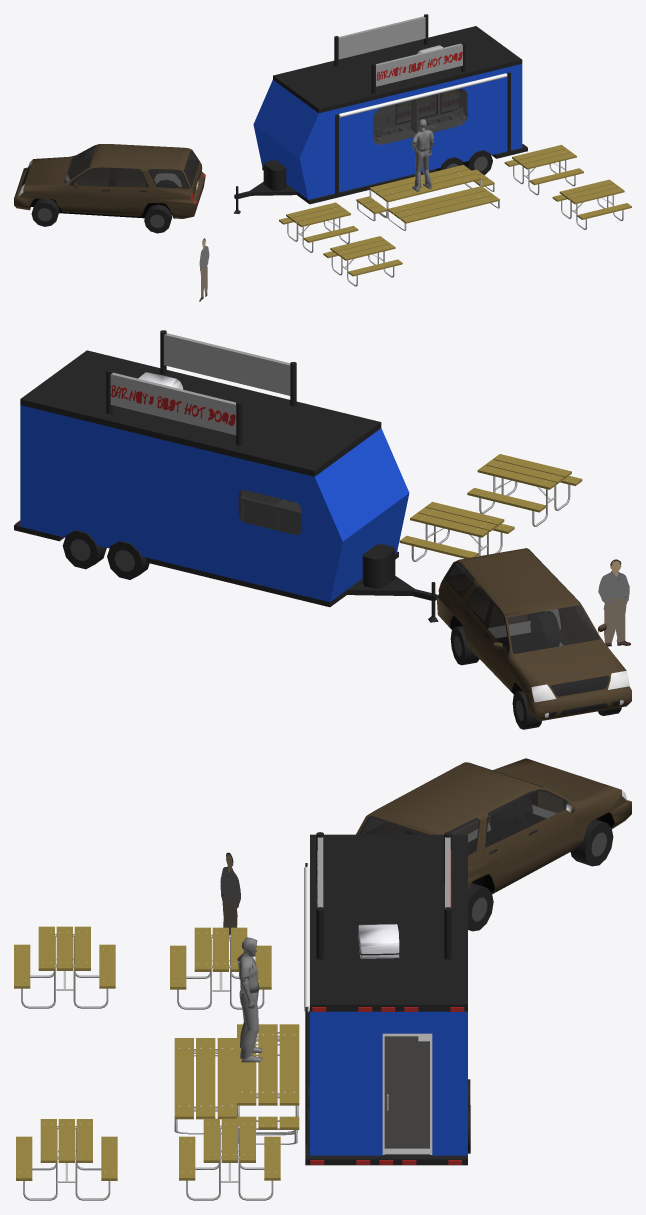
File: snakbar.obj
3 renders of one model, top to bottom at view 1: azimuth 30°, elevation 25°; view 2: azimuth 150°, elevation 25°; view 3: azimuth 270°, elevation 25°, orthographic. The views are drawn at different scales.
Parts seen in each view (by area): view 1: Mesh555 Group1 Snack___Fast_Food_Cart__with_full_interior_1 Mode, Mesh645 SUV_Half1 Auto_SUV_Mid_Size_Brown1 Snack___Fast_Food_Car, Mesh37 Group9 Group1 Snack___Fast_Food_Cart__with_full_interior_, Mesh653 SUV_Half2 Auto_SUV_Mid_Size_Brown1 Snack___Fast_Food_Car, Mesh176 Group32 Group1 Snack___Fast_Food_Cart__with_full_interio, Mesh106 Group20 Group19 Group1 Snack___Fast_Food_Cart__with_full, Mesh69 Group15 Group14 Group1 Snack___Fast_Food_Cart__with_full_, Mesh36 Group7 Group1 Snack___Fast_Food_Cart__with_full_interior_, Mesh814 G_3D_Man_Standing1 Snack___Fast_Food_Cart__with_full_int, Mesh111 Group21 Group1 Snack___Fast_Food_Cart__with_full_interio, Mesh234 Group45 rv_2_1 Group1 Snack___Fast_Food_Cart__with_full_, Mesh570 plank1 Group58 Group57 Snack___Fast_Food_Cart__with_full (+11 smaller); view 2: Mesh555 Group1 Snack___Fast_Food_Cart__with_full_interior_1 Mode, Mesh37 Group9 Group1 Snack___Fast_Food_Cart__with_full_interior_, Mesh653 SUV_Half2 Auto_SUV_Mid_Size_Brown1 Snack___Fast_Food_Car, Mesh645 SUV_Half1 Auto_SUV_Mid_Size_Brown1 Snack___Fast_Food_Car, Mesh69 Group15 Group14 Group1 Snack___Fast_Food_Cart__with_full_, Mesh106 Group20 Group19 Group1 Snack___Fast_Food_Cart__with_full, Mesh36 Group7 Group1 Snack___Fast_Food_Cart__with_full_interior_, Mesh86 Group18 Group1 Snack___Fast_Food_Cart__with_full_interior, Mesh1 Derrick1 Model, Mesh261 Steam_Table_and_Prep_Station1 Group1 Snack___Fast_Food_C, Mesh234 Group45 rv_2_1 Group1 Snack___Fast_Food_Cart__with_full_, Mesh235 Component_3_1 rv_2_1 Group1 Snack___Fast_Food_Cart__with (+13 smaller); view 3: Mesh37 Group9 Group1 Snack___Fast_Food_Cart__with_full_interior_, Mesh555 Group1 Snack___Fast_Food_Cart__with_full_interior_1 Mode, Mesh653 SUV_Half2 Auto_SUV_Mid_Size_Brown1 Snack___Fast_Food_Car, Mesh491 Group50 Door_Glass_3_2x7_0_1 Group1 Snack___Fast_Food_Ca, Mesh645 SUV_Half1 Auto_SUV_Mid_Size_Brown1 Snack___Fast_Food_Car, Mesh814 G_3D_Man_Standing1 Snack___Fast_Food_Cart__with_full_int, Mesh234 Group45 rv_2_1 Group1 Snack___Fast_Food_Cart__with_full_, Mesh591 plank6 Group65 Group57 Snack___Fast_Food_Cart__with_full, Mesh570 plank1 Group58 Group57 Snack___Fast_Food_Cart__with_full, Mesh571 plank2 Group58 Group57 Snack___Fast_Food_Cart__with_full, Mesh573 plank3 Group58 Group57 Snack___Fast_Food_Cart__with_full, Mesh589 plank5 Group65 Group57 Snack___Fast_Food_Cart__with_full (+27 smaller).
Boxes of the visible parts, x1,y1,x2,y2 form: Mesh555 Group1 Snack___Fast_Food_Cart__with_full_interior_1 Mode: (253, 64, 522, 199); Mesh645 SUV_Half1 Auto_SUV_Mid_Size_Brown1 Snack___Fast_Food_Car: (14, 154, 200, 218); Mesh37 Group9 Group1 Snack___Fast_Food_Cart__with_full_interior_: (273, 26, 522, 113); Mesh653 SUV_Half2 Auto_SUV_Mid_Size_Brown1 Snack___Fast_Food_Car: (19, 144, 205, 199); Mesh176 Group32 Group1 Snack___Fast_Food_Cart__with_full_interio: (373, 89, 467, 144); Mesh106 Group20 Group19 Group1 Snack___Fast_Food_Cart__with_full: (338, 16, 425, 59); Mesh69 Group15 Group14 Group1 Snack___Fast_Food_Cart__with_full_: (376, 43, 462, 86); Mesh36 Group7 Group1 Snack___Fast_Food_Cart__with_full_interior_: (234, 160, 296, 199); Mesh814 G_3D_Man_Standing1 Snack___Fast_Food_Cart__with_full_int: (411, 119, 433, 191); Mesh111 Group21 Group1 Snack___Fast_Food_Cart__with_full_interio: (338, 73, 507, 117); Mesh234 Group45 rv_2_1 Group1 Snack___Fast_Food_Cart__with_full_: (262, 144, 527, 204); Mesh570 plank1 Group58 Group57 Snack___Fast_Food_Cart__with_full: (400, 195, 499, 223); Mesh555 Group1 Snack___Fast_Food_Cart__with_full_interior_1 Mode: (20, 405, 409, 602); Mesh37 Group9 Group1 Snack___Fast_Food_Cart__with_full_interior_: (20, 350, 381, 476); Mesh653 SUV_Half2 Auto_SUV_Mid_Size_Brown1 Snack___Fast_Food_Car: (436, 554, 584, 721); Mesh645 SUV_Half1 Auto_SUV_Mid_Size_Brown1 Snack___Fast_Food_Car: (485, 548, 631, 713); Mesh69 Group15 Group14 Group1 Snack___Fast_Food_Cart__with_full_: (164, 333, 290, 395); Mesh106 Group20 Group19 Group1 Snack___Fast_Food_Cart__with_full: (110, 372, 236, 435); Mesh36 Group7 Group1 Snack___Fast_Food_Cart__with_full_interior_: (347, 544, 437, 601); Mesh86 Group18 Group1 Snack___Fast_Food_Cart__with_full_interior: (238, 490, 301, 534); Mesh1 Derrick1 Model: (598, 559, 630, 646); Mesh261 Steam_Table_and_Prep_Station1 Group1 Snack___Fast_Food_C: (242, 490, 300, 533); Mesh234 Group45 rv_2_1 Group1 Snack___Fast_Food_Cart__with_full_: (14, 521, 398, 607); Mesh235 Component_3_1 rv_2_1 Group1 Snack___Fast_Food_Cart__with: (62, 530, 106, 569); Mesh37 Group9 Group1 Snack___Fast_Food_Cart__with_full_interior_: (310, 834, 467, 1011); Mesh555 Group1 Snack___Fast_Food_Cart__with_full_interior_1 Mode: (310, 1011, 467, 1155); Mesh653 SUV_Half2 Auto_SUV_Mid_Size_Brown1 Snack___Fast_Food_Car: (402, 774, 631, 894); Mesh491 Group50 Door_Glass_3_2x7_0_1 Group1 Snack___Fast_Food_Ca: (384, 1036, 429, 1154); Mesh645 SUV_Half1 Auto_SUV_Mid_Size_Brown1 Snack___Fast_Food_Car: (356, 758, 573, 834); Mesh814 G_3D_Man_Standing1 Snack___Fast_Food_Cart__with_full_int: (237, 937, 262, 1062); Mesh234 Group45 rv_2_1 Group1 Snack___Fast_Food_Cart__with_full_: (305, 1011, 467, 1165); Mesh591 plank6 Group65 Group57 Snack___Fast_Food_Cart__with_full: (279, 1024, 299, 1105); Mesh570 plank1 Group58 Group57 Snack___Fast_Food_Cart__with_full: (174, 1038, 193, 1119); Mesh571 plank2 Group58 Group57 Snack___Fast_Food_Cart__with_full: (196, 1038, 215, 1119); Mesh573 plank3 Group58 Group57 Snack___Fast_Food_Cart__with_full: (217, 1038, 236, 1119); Mesh589 plank5 Group65 Group57 Snack___Fast_Food_Cart__with_full: (258, 1024, 277, 1105).
Bounding box in the file's own units: 14.27 × 4.88 × 9.56.
